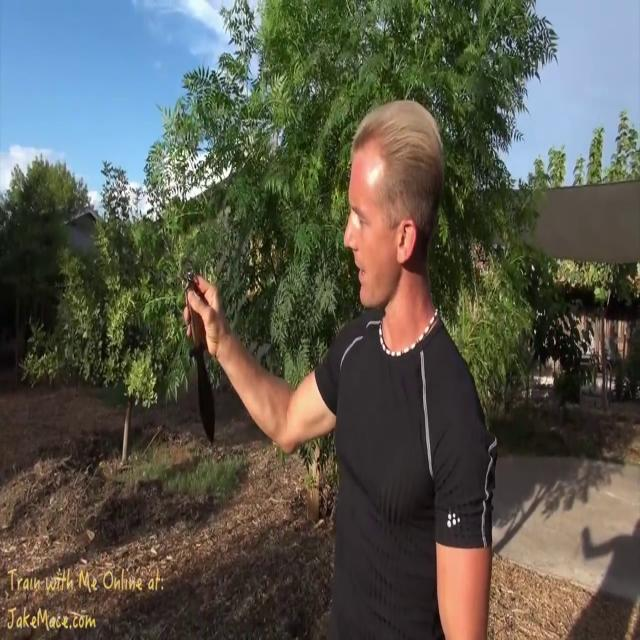knife: (174, 263, 228, 465)
